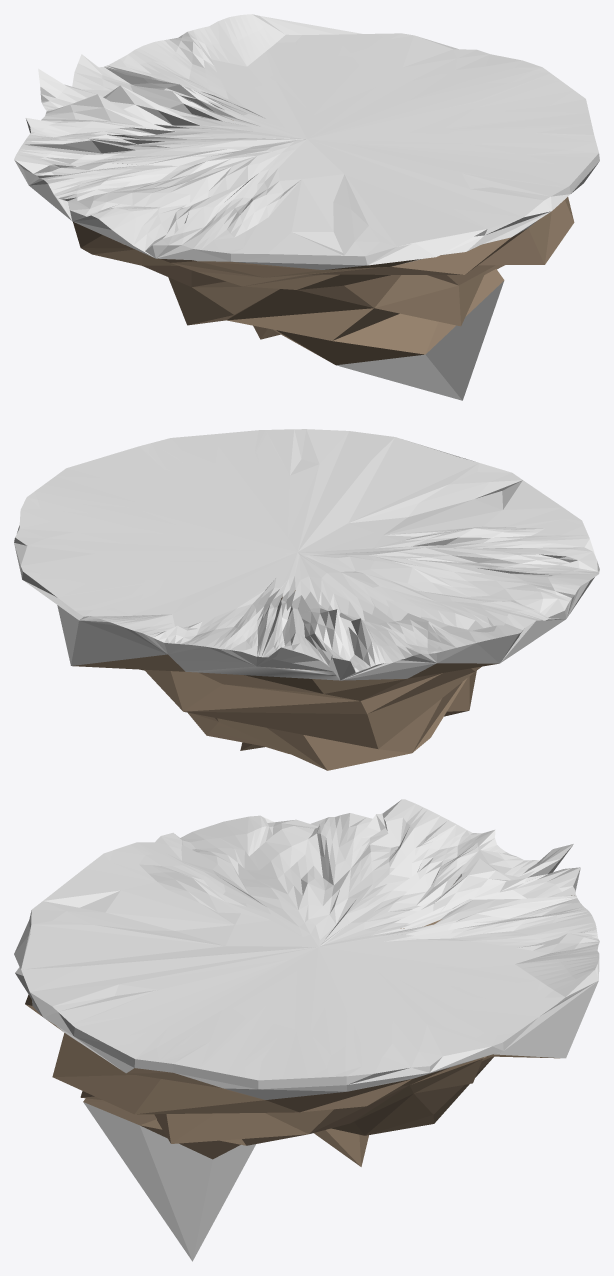
The model's file is snow_island_1.fbx.
3 renders of one model, top to bottom at view 1: azimuth 30°, elevation 25°; view 2: azimuth 150°, elevation 25°; view 3: azimuth 270°, elevation 25°, orthographic. The views are drawn at different scales.
Visible parts, largest first — view 1: Cone_1.003; view 2: Cone_1.003; view 3: Cone_1.003.
Boxes of the visible parts, left/top/right/bottom form: Cone_1.003: left=14, top=14, right=599, bottom=400; Cone_1.003: left=14, top=429, right=599, bottom=770; Cone_1.003: left=14, top=799, right=599, bottom=1261.
Size of the model in its own units: 9401 by 4794 by 8705.
